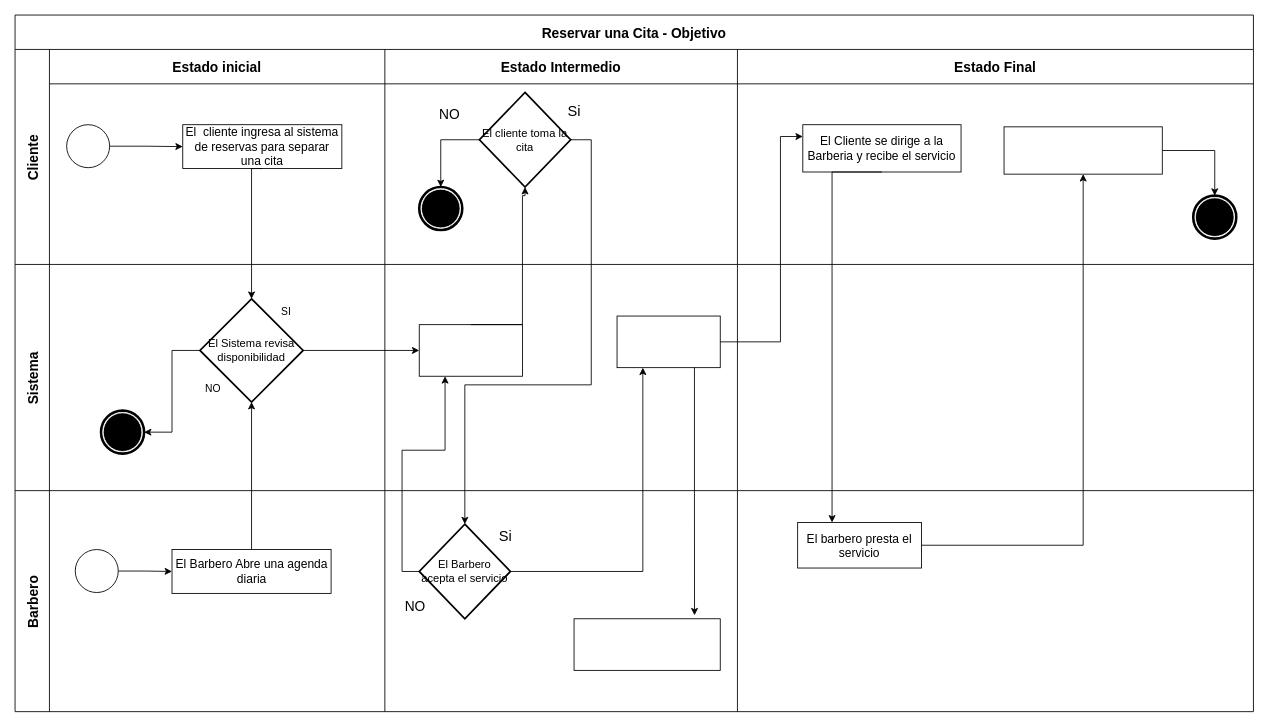
Some shapes in this 1269 by 727 pixel diagram are drawn without their labels. The centre of each missing label's shape, as x and y in pixels:
El Cliente Paga por el servicio Adquirido: [1082,150]
El sistema confirma la cita: [668,341]
El sistema informa al barbero sobre la cita: [646,644]
El sistema muestra la citas disponibles: [470,350]
